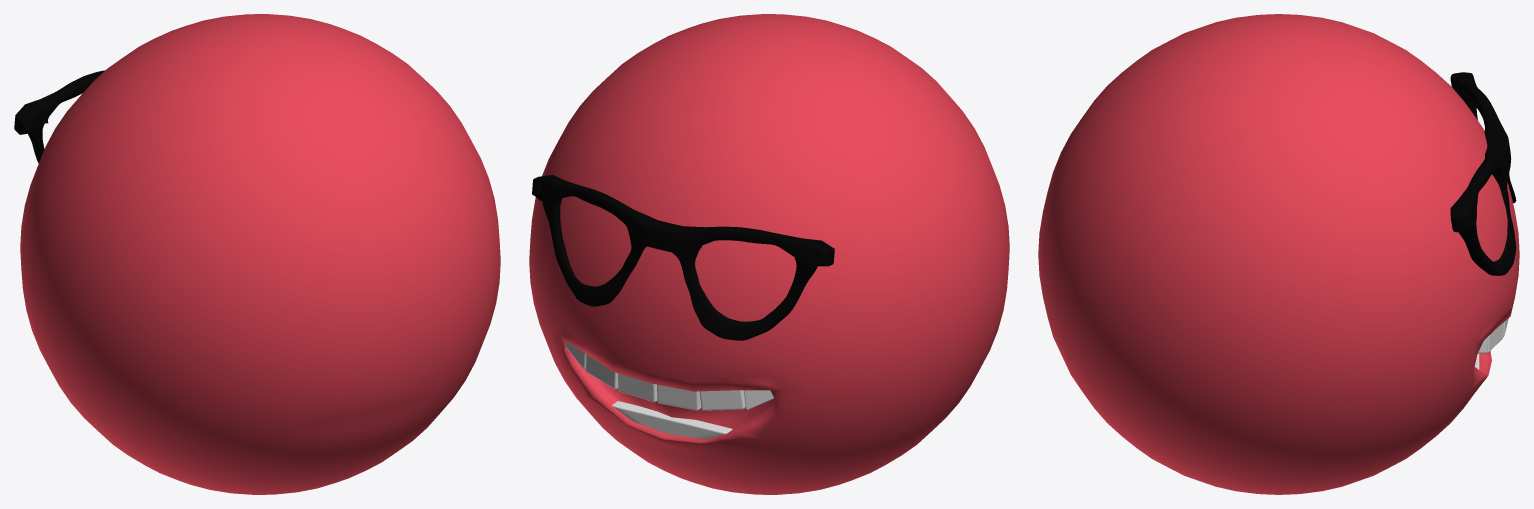
Rendered from UpQuarkModel.fbx.
3 renders of one model, left to right at view 1: azimuth 30°, elevation 25°; view 2: azimuth 150°, elevation 25°; view 3: azimuth 270°, elevation 25°, orthographic.
Visible parts, largest first — view 1: Sphere, Glasses; view 2: Sphere, Glasses, TeethBottom, Teeth.006, Teeth.005, Teeth.001, Teeth.003; view 3: Sphere, Glasses.
Part boxes in pixels (bbox=[...]): Sphere: bbox=[20, 14, 500, 494]; Glasses: bbox=[14, 70, 104, 163]; Sphere: bbox=[529, 14, 1009, 494]; Glasses: bbox=[532, 175, 834, 340]; TeethBottom: bbox=[612, 401, 732, 439]; Teeth.006: bbox=[699, 390, 745, 410]; Teeth.005: bbox=[657, 384, 701, 410]; Teeth.001: bbox=[618, 373, 657, 402]; Teeth.003: bbox=[586, 354, 618, 389]; Sphere: bbox=[1038, 14, 1519, 494]; Glasses: bbox=[1450, 72, 1516, 275].
Bounding box in the file's own units: 405 × 405 × 405.
